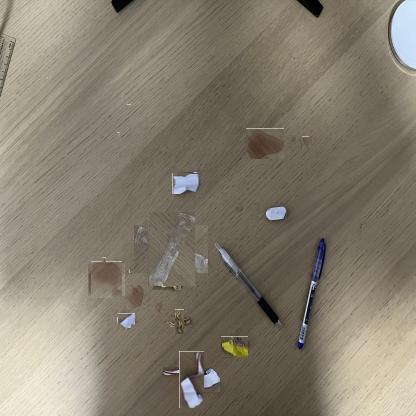dirty: (140, 219, 202, 280), (171, 359, 212, 400), (172, 172, 199, 194), (220, 336, 248, 357), (153, 278, 181, 290), (171, 313, 188, 331), (118, 313, 135, 328)
liquid: (89, 263, 124, 297), (246, 128, 284, 159), (126, 285, 144, 309), (300, 138, 311, 148), (155, 302, 163, 314), (288, 135, 296, 145), (236, 203, 244, 213), (129, 269, 134, 274), (102, 257, 106, 262)
mark: (116, 132, 120, 137), (128, 104, 131, 108), (121, 96, 125, 99), (45, 77, 49, 80), (99, 83, 102, 85)
